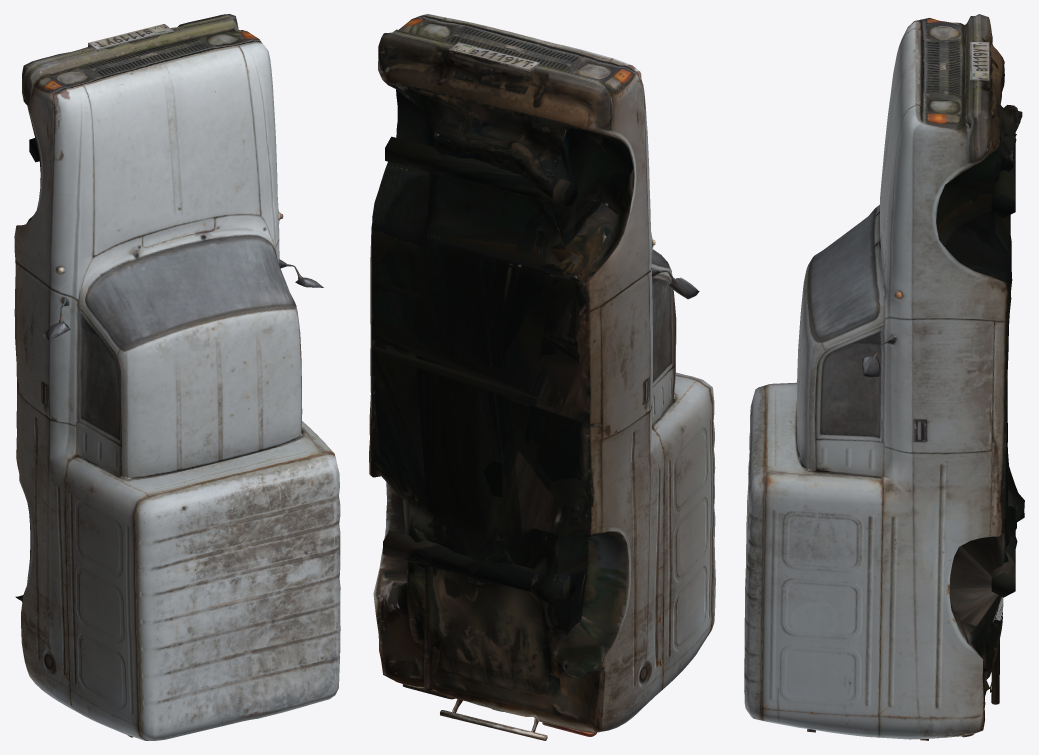
File: IZH2715.obj
The picture shows the model from 3 angles, left to right: view 1: azimuth 30°, elevation 25°; view 2: azimuth 150°, elevation 25°; view 3: azimuth 270°, elevation 25°; orthographic projection. The views are drawn at different scales.
Parts seen in each view (by area): view 1: OldCar.001; view 2: OldCar.001; view 3: OldCar.001.
Part boxes in pixels (box(x1,y1,x2,y2)): OldCar.001: box(14, 14, 340, 740); OldCar.001: box(369, 14, 715, 740); OldCar.001: box(744, 14, 1024, 740).
Size of the model in its own units: 2.03 by 4.49 by 1.77.
2 materials, 2 textured.
